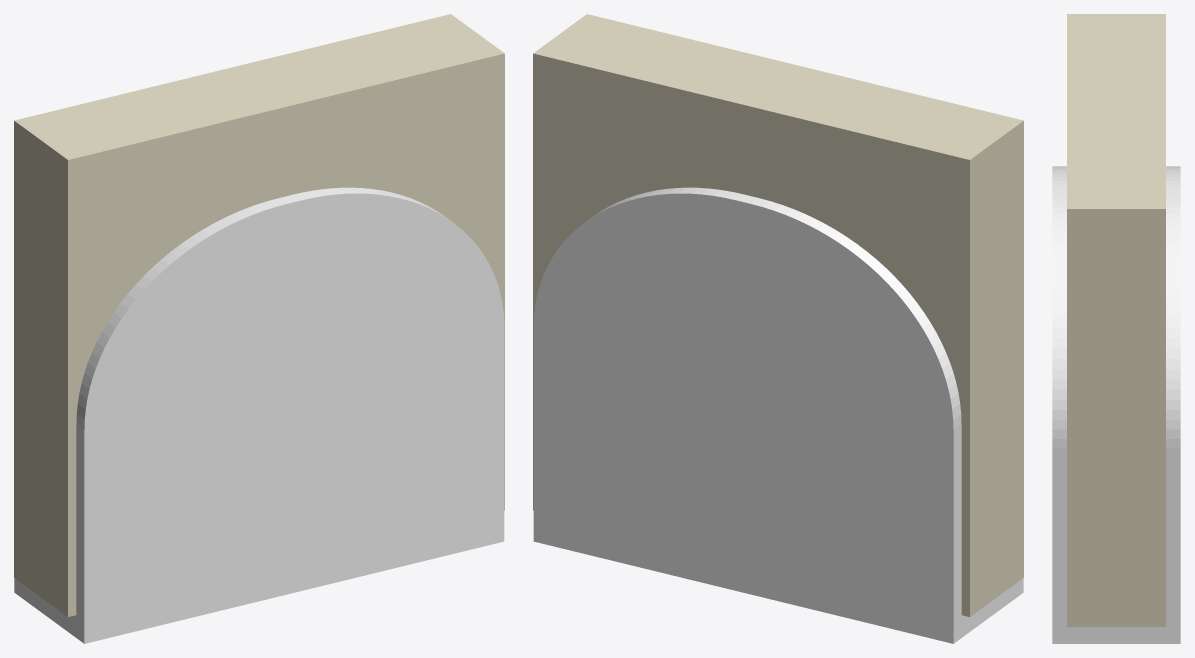
Rendered from tableware.fbx.
3 renders of one model, left to right at view 1: azimuth 30°, elevation 25°; view 2: azimuth 150°, elevation 25°; view 3: azimuth 270°, elevation 25°, orthographic. The views are drawn at different scales.
Visible parts, largest first — view 1: napkinRing.001, napkin.001; view 2: napkinRing.001, napkin.001; view 3: napkin.001, napkinRing.001.
Boxes of the visible parts, x1=… form: napkinRing.001: x1=14, y1=187, x2=504, y2=643; napkin.001: x1=14, y1=14, x2=504, y2=616; napkinRing.001: x1=533, y1=187, x2=1023, y2=643; napkin.001: x1=533, y1=14, x2=1023, y2=616; napkin.001: x1=1067, y1=14, x2=1165, y2=626; napkinRing.001: x1=1052, y1=166, x2=1180, y2=643.
Size of the model in its own units: 33.87 by 35.57 by 9.42.
